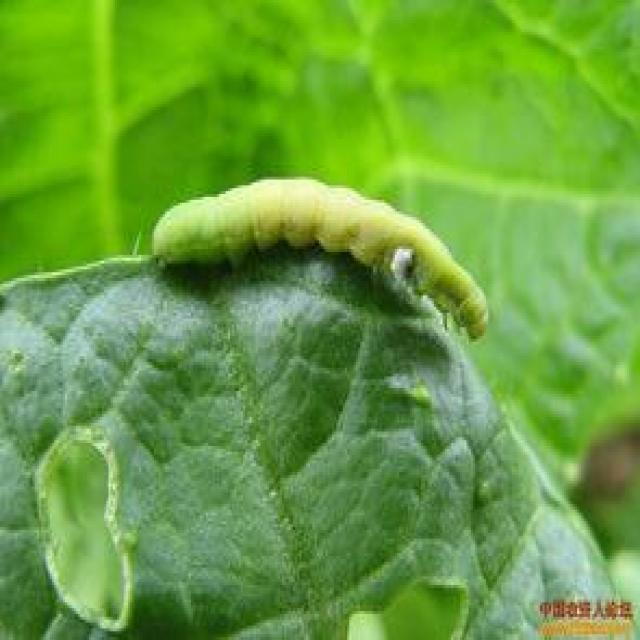BeetArmyWorm-Larva-: (149, 175, 492, 340)
